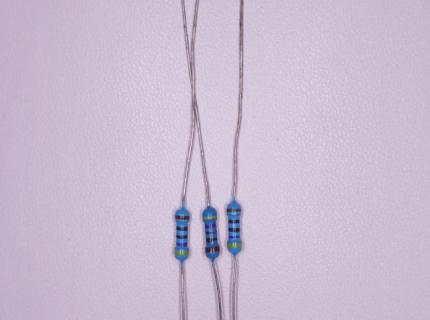Black band: (206, 237, 218, 243), (228, 227, 240, 232), (205, 231, 217, 236), (176, 235, 187, 240), (176, 226, 187, 231), (228, 220, 240, 224)
Brown band: (205, 246, 220, 253), (175, 215, 189, 220), (227, 208, 241, 212)
Violet band: (205, 223, 216, 230), (176, 242, 187, 247), (229, 235, 240, 239)
Yellow band: (174, 250, 189, 256), (201, 216, 217, 221), (227, 243, 242, 248)
